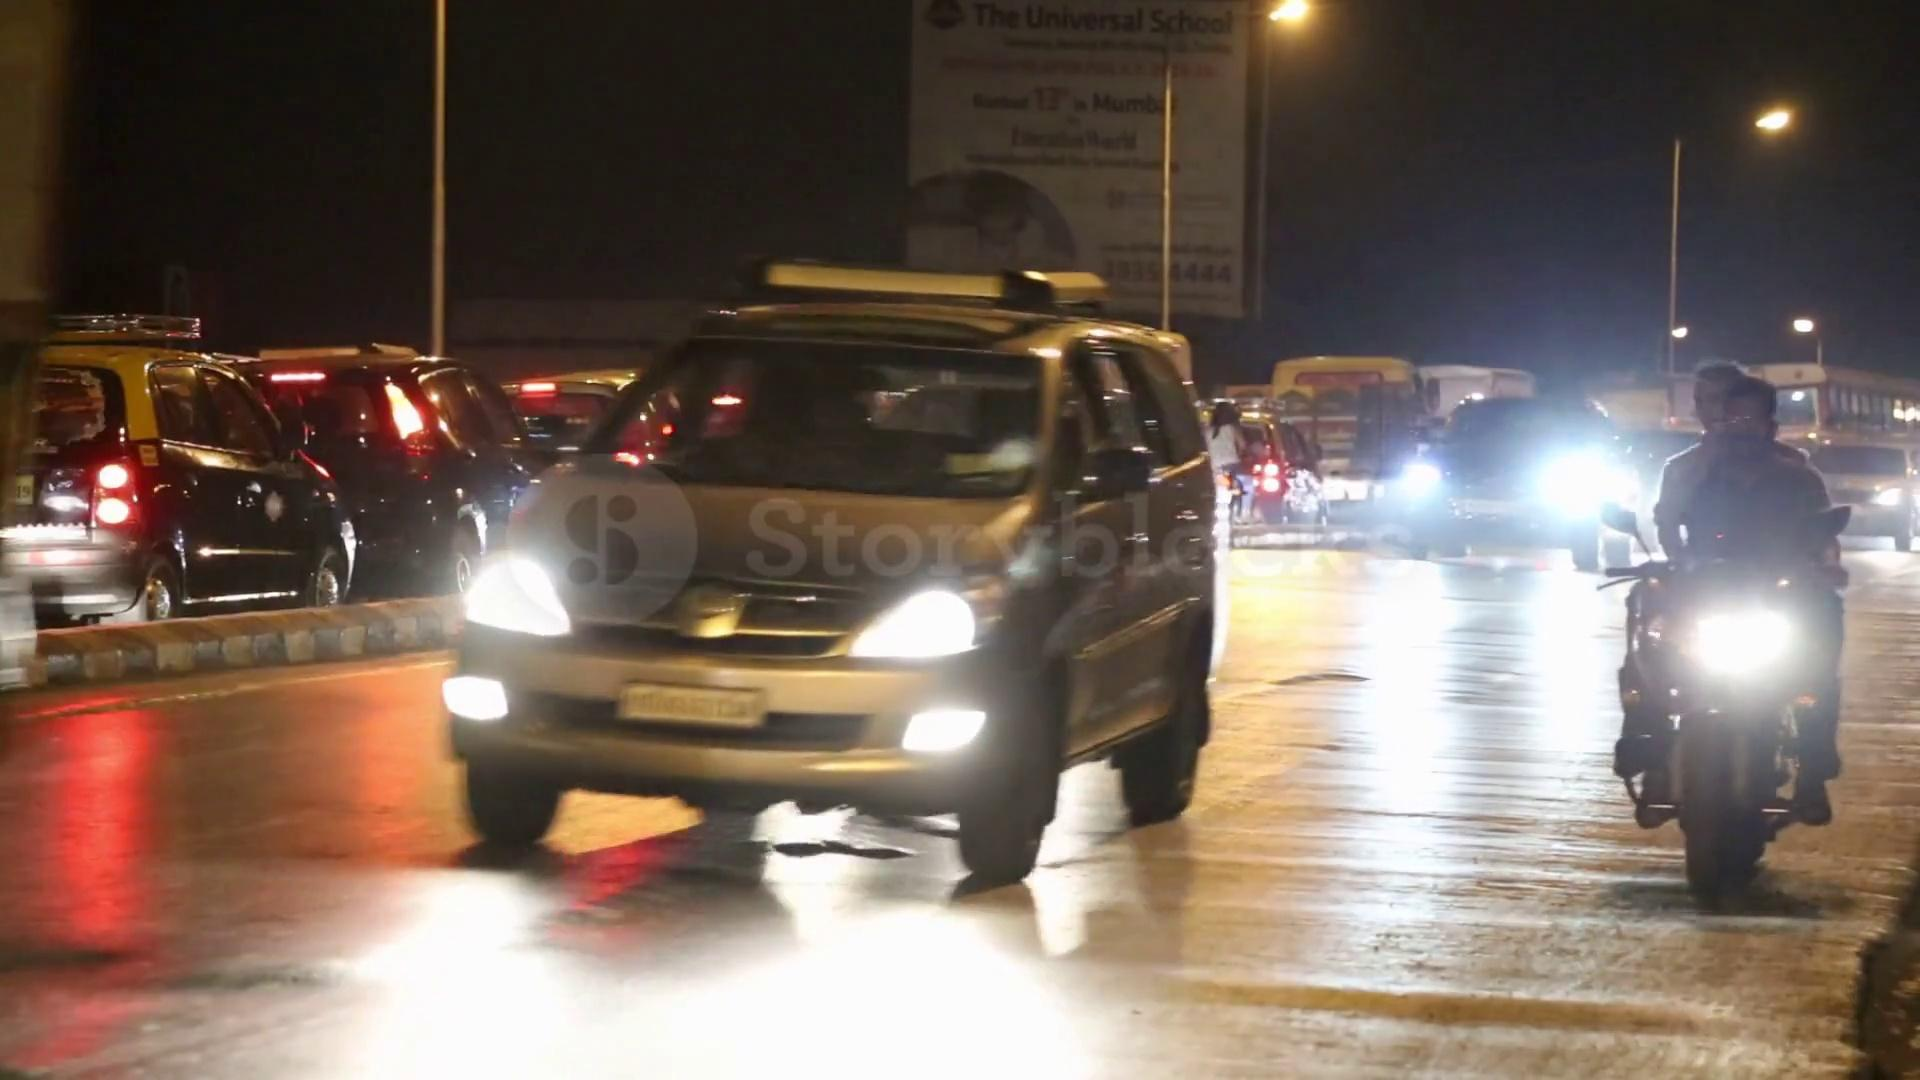rider: (1637, 369, 1850, 826)
without_helmate: (1710, 383, 1786, 466)
